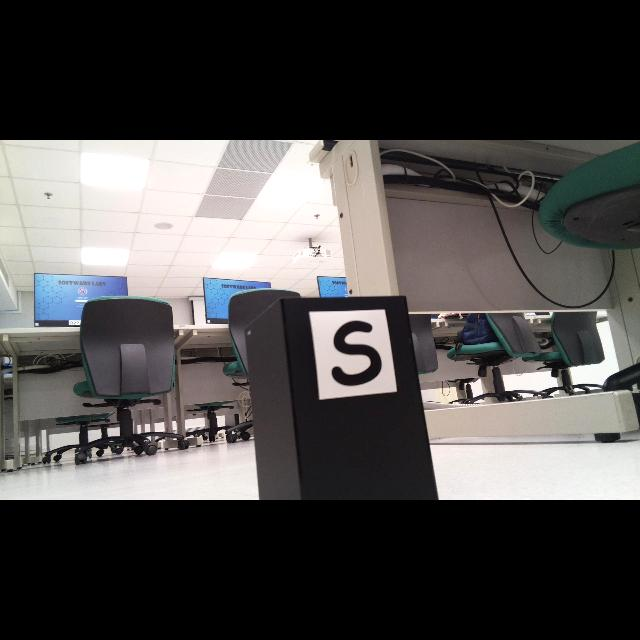S: (331, 321, 382, 386)
